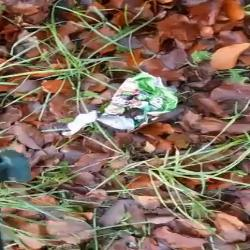Metal: (98, 72, 178, 132)
